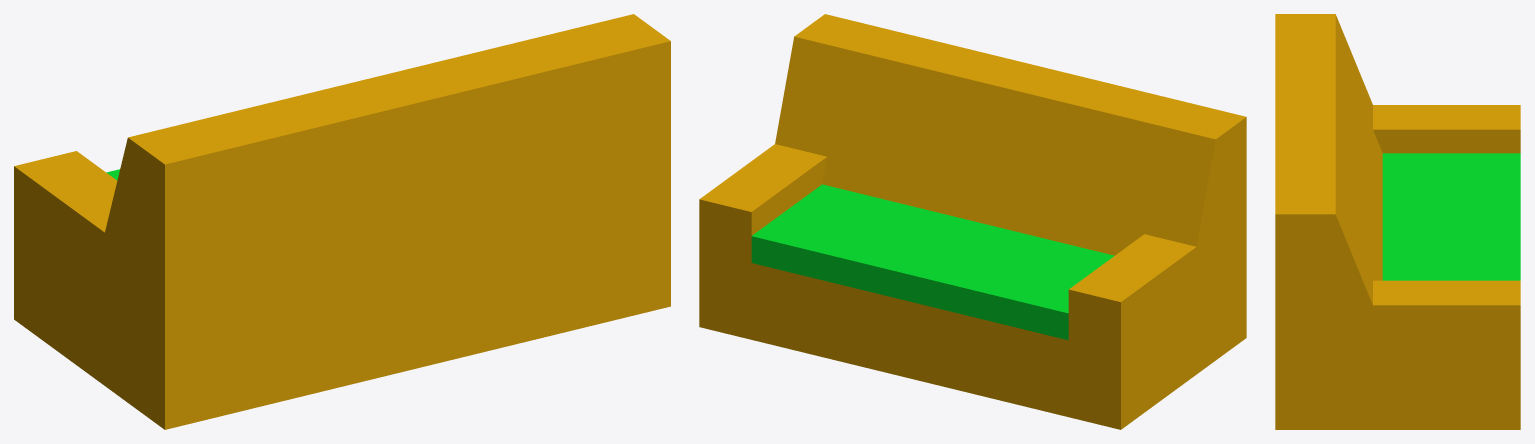
The model's file is SofaBig.fbx.
3 renders of one model, left to right at view 1: azimuth 30°, elevation 25°; view 2: azimuth 150°, elevation 25°; view 3: azimuth 270°, elevation 25°, orthographic. The views are drawn at different scales.
Parts seen in each view (by area): view 1: Cube.020; view 2: Cube.020; view 3: Cube.020.
Boxes of the visible parts, box(x1,y1,x2,y2) form: Cube.020: box(14, 14, 670, 429); Cube.020: box(699, 14, 1246, 429); Cube.020: box(1275, 14, 1520, 429).
Size of the model in its own units: 42.52 by 21.31 by 21.96.
